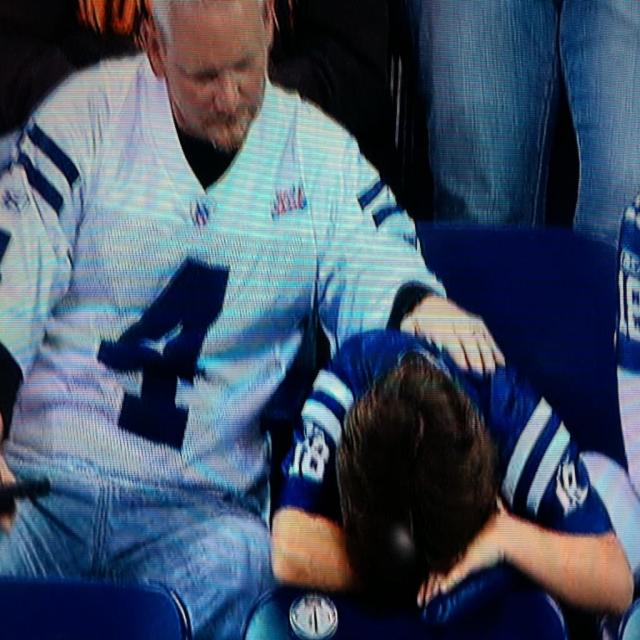nomask: (168, 20, 268, 151)
